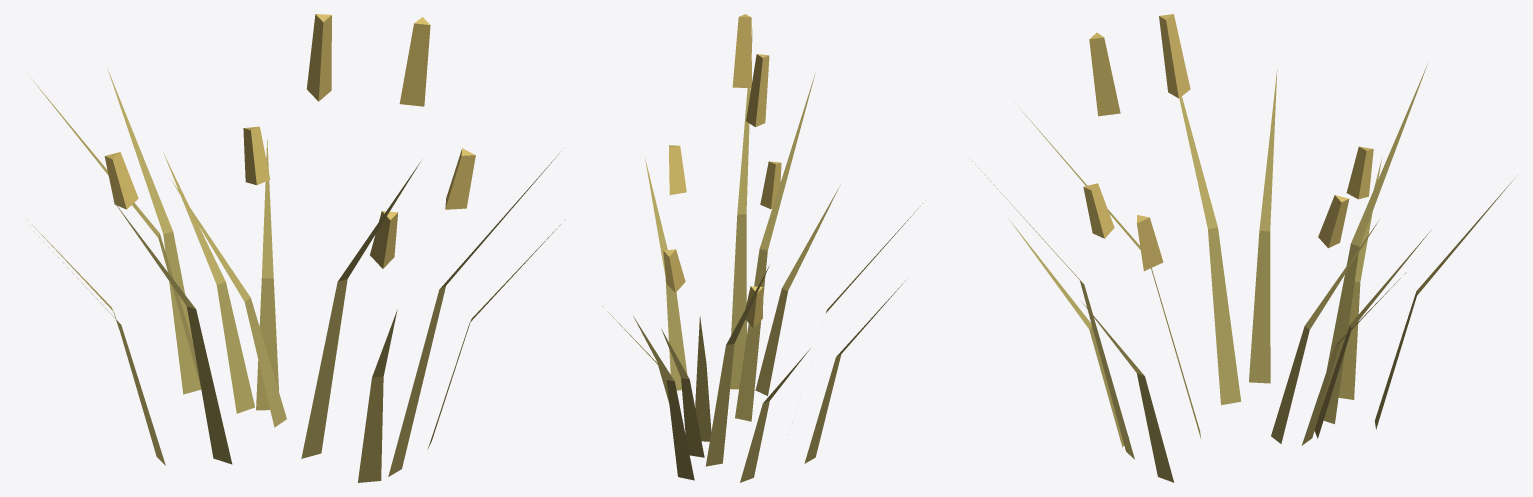
Rendered from hautes_herbes.glb.
3 views of the same model, side by side, from view 1: azimuth 30°, elevation 25°; view 2: azimuth 150°, elevation 25°; view 3: azimuth 270°, elevation 25° (orthographic). The views are drawn at different scales.
Parts seen in each view (by area): view 1: hautes_herbes; view 2: hautes_herbes; view 3: hautes_herbes.
Boxes of the visible parts, left/top/right/bottom form: hautes_herbes: left=27, top=14, right=565, bottom=482; hautes_herbes: left=602, top=14, right=922, bottom=482; hautes_herbes: left=966, top=14, right=1517, bottom=482.
Bounding box in the file's own units: 1.08 × 1.07 × 1.28.
1 material, 1 textured.
